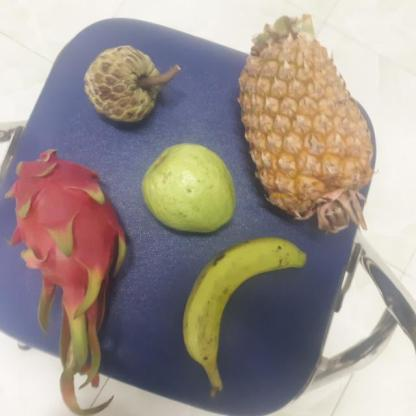annona: (80, 46, 162, 125)
banana: (177, 239, 306, 366)
guava: (136, 144, 236, 232)
pineapple: (240, 28, 372, 229)
pitaya: (3, 152, 127, 318)
